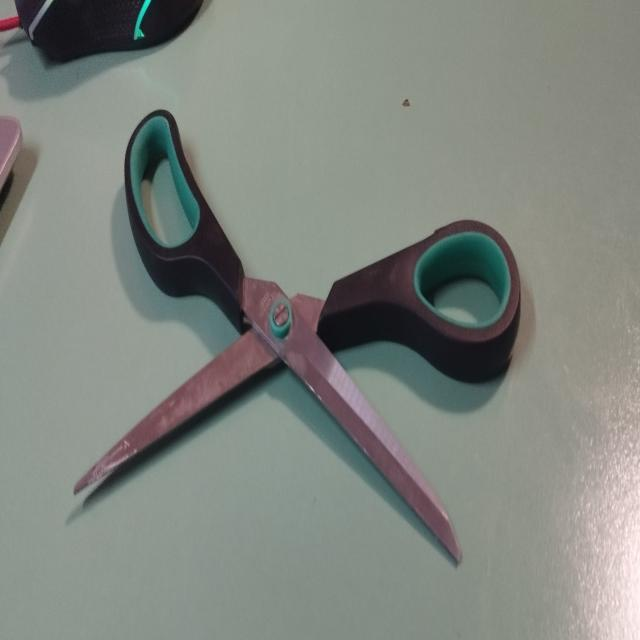tesoura: (68, 98, 526, 572)
